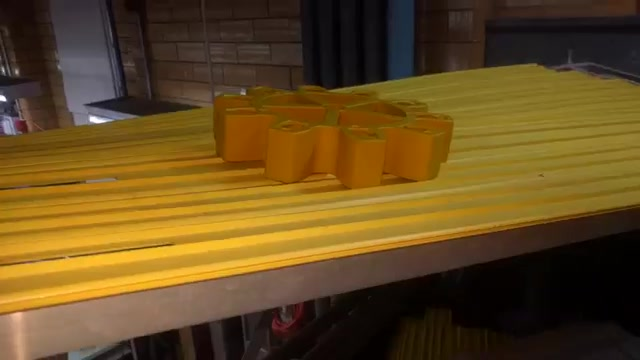gear: (210, 70, 460, 204)
